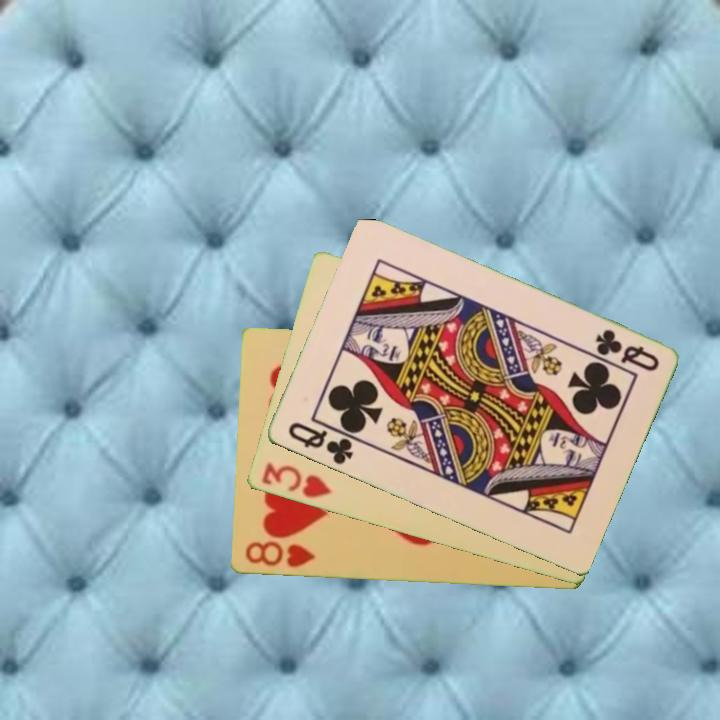3h: (257, 459, 336, 501)
8h: (242, 538, 318, 571)
Qc: (284, 418, 356, 468), (591, 326, 662, 375)
